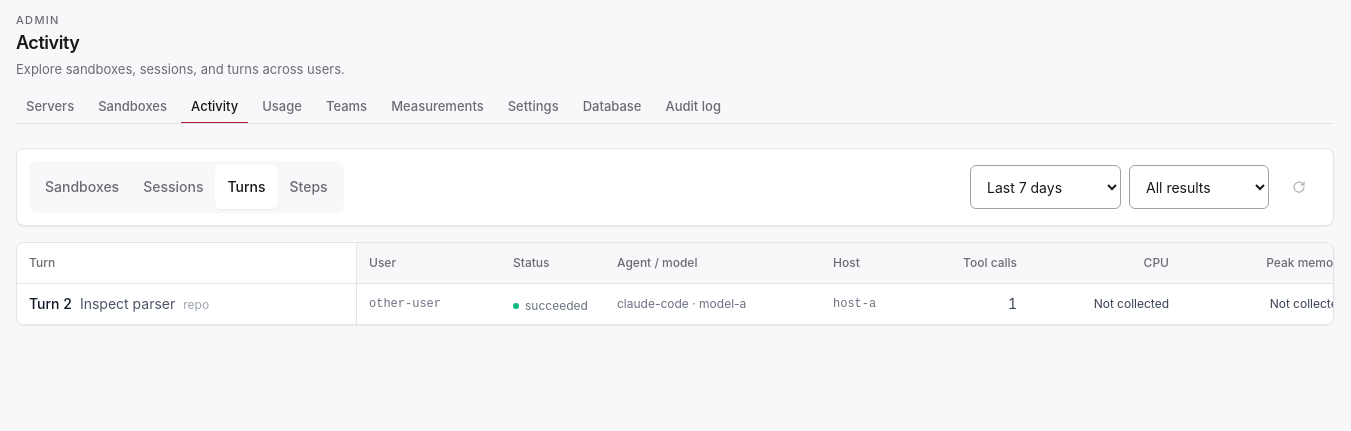
Test case: turn level › applies filters and paginates with the same window and filter scope
Expected: the link titled "job-1" is shown, left=29, top=294, right=72, bottom=314
Select "failed" in the 2nd dropdown named "Turn result" at [1199, 187], box left=1129, top=165, right=1269, bottom=209
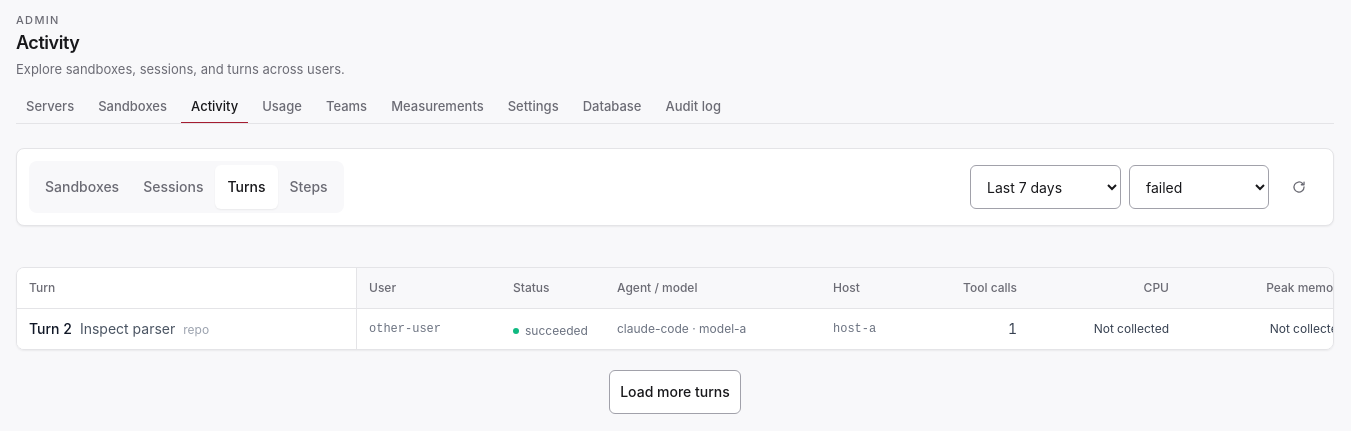
Click the button "Load more turns".
click(675, 392)  # box left=609, top=370, right=741, bottom=414
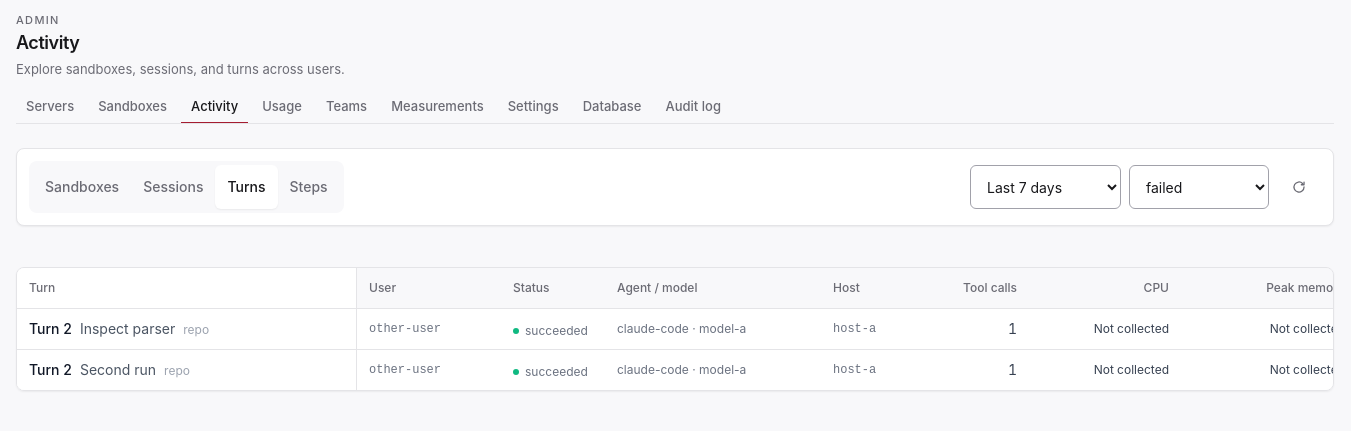
Expected: the link titled "job-1" next to "Inspect parser" is shown, left=29, top=319, right=72, bottom=339
Expected: the link titled "job-2" next to "Second run" is shown, left=29, top=360, right=72, bottom=380
Expected: the text "Second run" is shown, left=80, top=360, right=156, bottom=380
